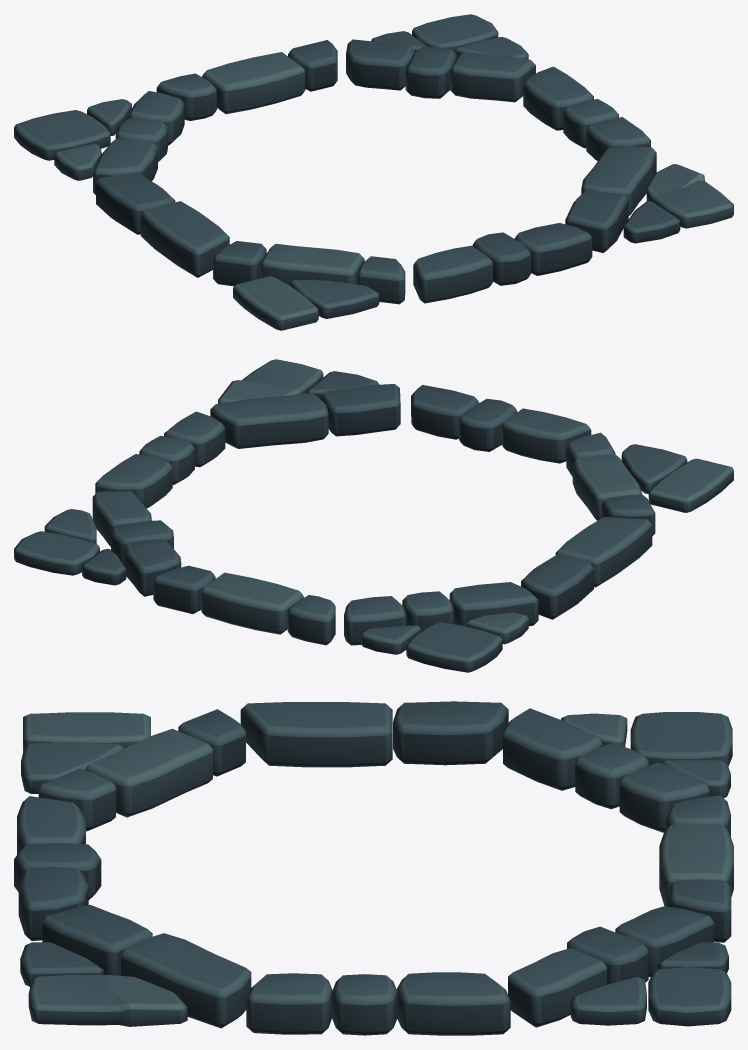
The model's file is stone_circle_LOD_setup.fbx.
3 views of the same model, one above another, from view 1: azimuth 30°, elevation 25°; view 2: azimuth 150°, elevation 25°; view 3: azimuth 270°, elevation 25° (orthographic). The views are drawn at different scales.
Visible parts, largest first — view 1: stone_circle_LOD0; view 2: stone_circle_LOD0; view 3: stone_circle_LOD0.
Part boxes in pixels (x1,y1,x2,y2): stone_circle_LOD0: [14, 14, 733, 330]; stone_circle_LOD0: [14, 359, 733, 672]; stone_circle_LOD0: [14, 701, 733, 1035].
Size of what is drawn, in the model's own units: 601 by 36.82 by 605.
